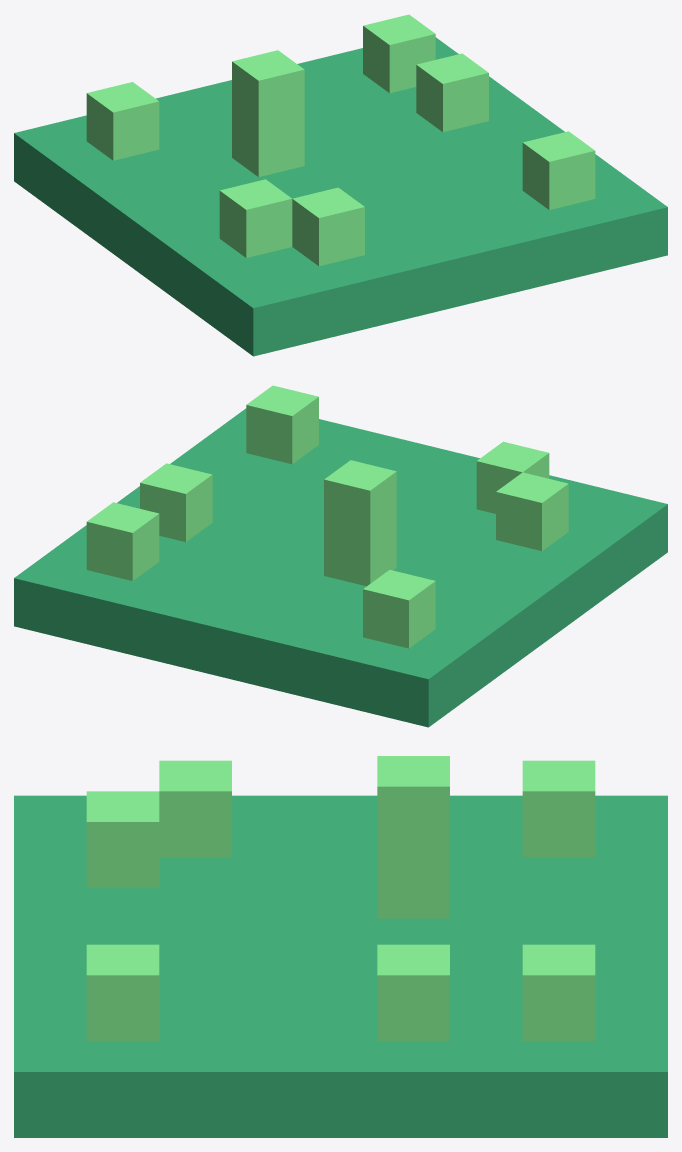
File: Grass.obj
3 views of the same model, one above another, from view 1: azimuth 30°, elevation 25°; view 2: azimuth 150°, elevation 25°; view 3: azimuth 270°, elevation 25° (orthographic). The views are drawn at different scales.
Size of the model in its own units: 0.9 by 0.3 by 0.9.
